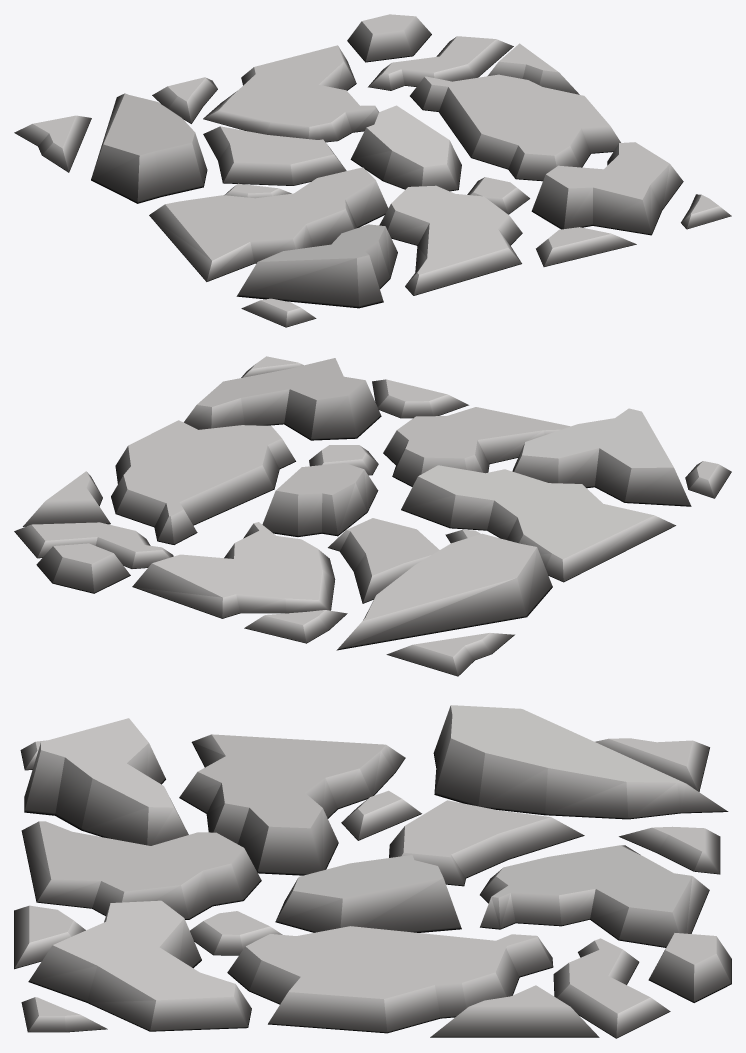
File: deco_winter_groundGravel.FBX
3 views of the same model, one above another, from view 1: azimuth 30°, elevation 25°; view 2: azimuth 150°, elevation 25°; view 3: azimuth 270°, elevation 25° (orthographic). The views are drawn at different scales.
Parts seen in each view (by area): view 1: deco_winter_groundGravel; view 2: deco_winter_groundGravel; view 3: deco_winter_groundGravel.
Boxes of the visible parts, <box> form: deco_winter_groundGravel: <box>14,14,731,327</box>; deco_winter_groundGravel: <box>14,356,731,676</box>; deco_winter_groundGravel: <box>14,705,731,1038</box>.
Size of the model in its own units: 1.96 by 0.1915 by 2.
Materials: 1 (1 with a texture image).
